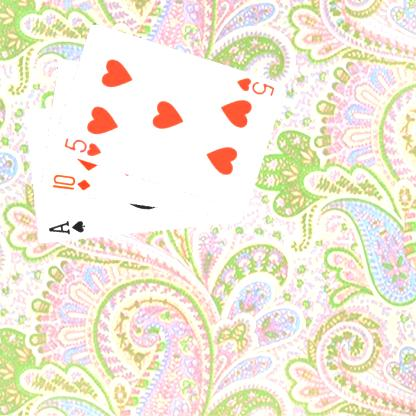10D: (49, 172, 92, 192)
5H: (233, 75, 276, 98), (61, 135, 102, 158)
AS: (46, 218, 86, 236)
